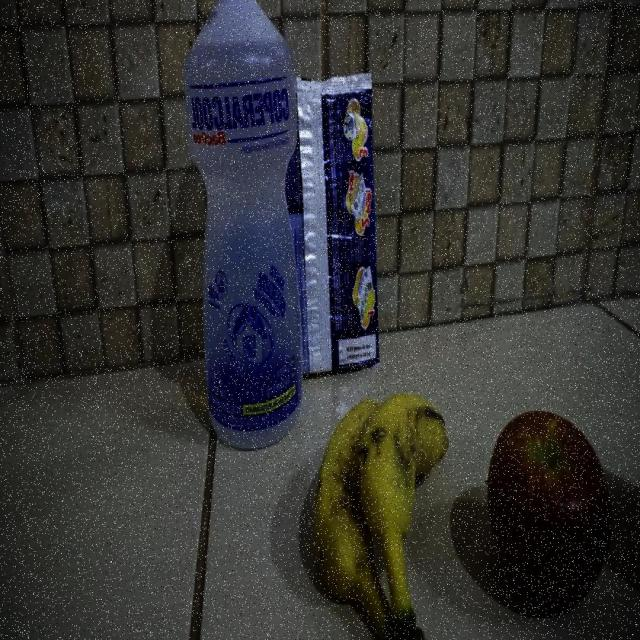AlcoholBottle: (180, 0, 306, 453)
Apple: (485, 410, 613, 613)
Banana: (311, 392, 448, 640)
Popcorn: (286, 71, 382, 379)
